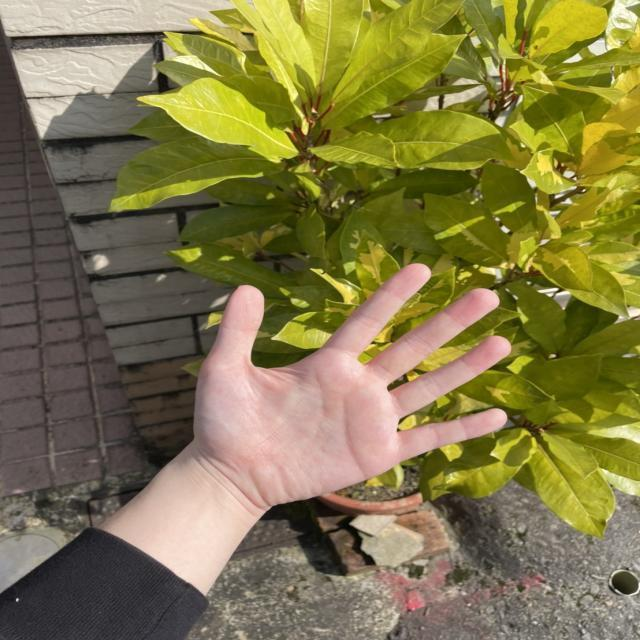hand: (185, 247, 520, 507)
